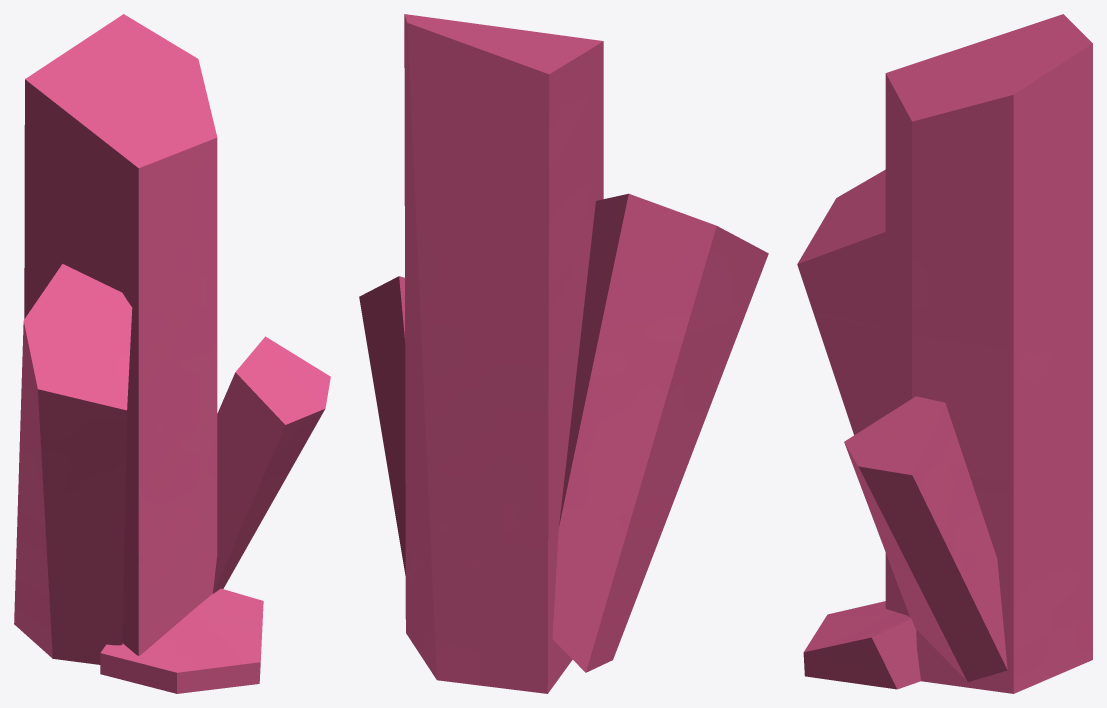
The picture shows the model from 3 angles, left to right: view 1: azimuth 30°, elevation 25°; view 2: azimuth 150°, elevation 25°; view 3: azimuth 270°, elevation 25°; orthographic projection. The views are drawn at different scales.
Parts seen in each view (by area): view 1: 1; view 2: 1; view 3: 1.
Part boxes in pixels (x1,y1,x2,y2): 1: (14,14,330,693); 1: (359,14,768,693); 1: (797,14,1092,693).
Size of the model in its own units: 88.19 by 148 by 62.84.
1 material, 1 textured.
